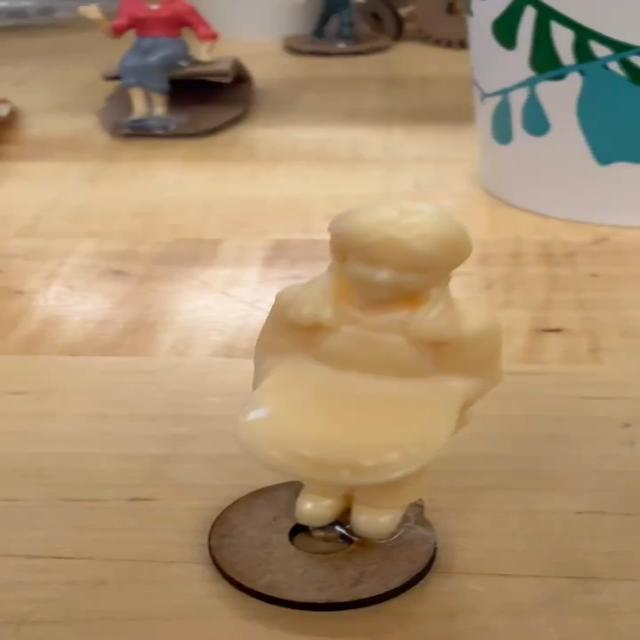Unauthorized: (216, 201, 518, 592)
